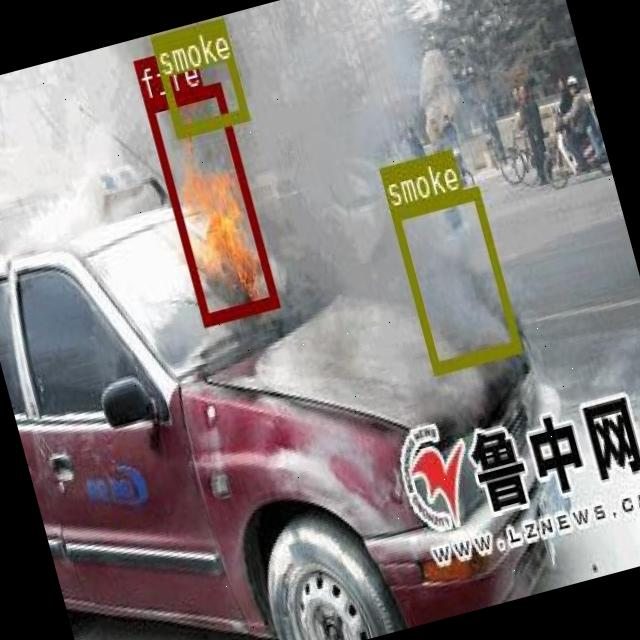fire: (143, 80, 278, 323)
smoke: (388, 185, 520, 374), (150, 17, 248, 135)
